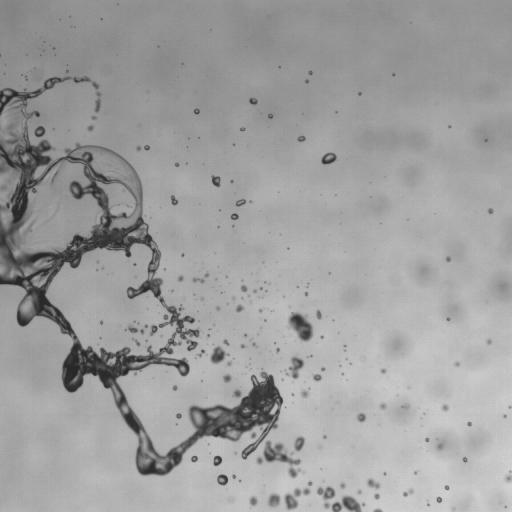droplet: (256, 440, 304, 478), (287, 312, 313, 341), (284, 355, 304, 379), (210, 345, 228, 364), (321, 152, 337, 164), (267, 493, 280, 507), (294, 436, 305, 451), (367, 478, 380, 489), (217, 474, 228, 485), (211, 175, 220, 187), (213, 455, 221, 466), (504, 470, 511, 482), (249, 496, 257, 506), (357, 413, 365, 422), (171, 195, 178, 205), (235, 199, 245, 206), (236, 304, 244, 312), (223, 374, 231, 382), (312, 374, 321, 381), (249, 98, 257, 105), (301, 390, 308, 397), (379, 402, 386, 409), (441, 404, 448, 411), (436, 443, 443, 450), (230, 213, 238, 219), (316, 310, 321, 319), (241, 285, 247, 292), (436, 496, 442, 503), (297, 136, 305, 141), (87, 125, 93, 131), (177, 275, 183, 281), (191, 456, 197, 462), (223, 339, 228, 345), (380, 368, 386, 373), (340, 482, 345, 488), (374, 493, 379, 499), (194, 109, 199, 114), (144, 145, 149, 150), (136, 146, 141, 151), (488, 208, 493, 213), (486, 339, 491, 344), (252, 342, 257, 347), (454, 361, 459, 366), (172, 385, 177, 390), (404, 403, 409, 408), (176, 413, 181, 418), (462, 457, 467, 462), (444, 485, 449, 490), (123, 203, 129, 207), (446, 256, 450, 262), (240, 344, 246, 348), (227, 361, 231, 366), (467, 421, 471, 426), (357, 489, 361, 494), (268, 114, 272, 118), (240, 127, 244, 131), (204, 273, 208, 277), (216, 306, 220, 310), (92, 116, 96, 119), (175, 162, 178, 166), (304, 292, 308, 295), (276, 348, 279, 352), (321, 367, 324, 371), (425, 438, 429, 441), (309, 71, 312, 74), (253, 289, 256, 292), (259, 309, 262, 312), (446, 317, 449, 320), (503, 414, 506, 417), (414, 470, 417, 473), (232, 475, 235, 478), (452, 508, 455, 511), (243, 334, 247, 336), (305, 80, 308, 82), (2, 186, 4, 189), (309, 355, 312, 357), (427, 502, 429, 505), (25, 77, 27, 79), (181, 254, 183, 256), (259, 287, 261, 289), (207, 335, 209, 337), (321, 336, 323, 338), (509, 406, 511, 408), (229, 499, 231, 501)
ligament: (0, 79, 277, 474), (316, 486, 365, 511), (284, 481, 312, 511), (126, 324, 144, 333), (94, 91, 100, 112), (403, 488, 413, 496), (192, 277, 204, 283), (196, 349, 205, 357), (133, 338, 140, 346), (55, 203, 60, 211), (373, 508, 382, 511)
